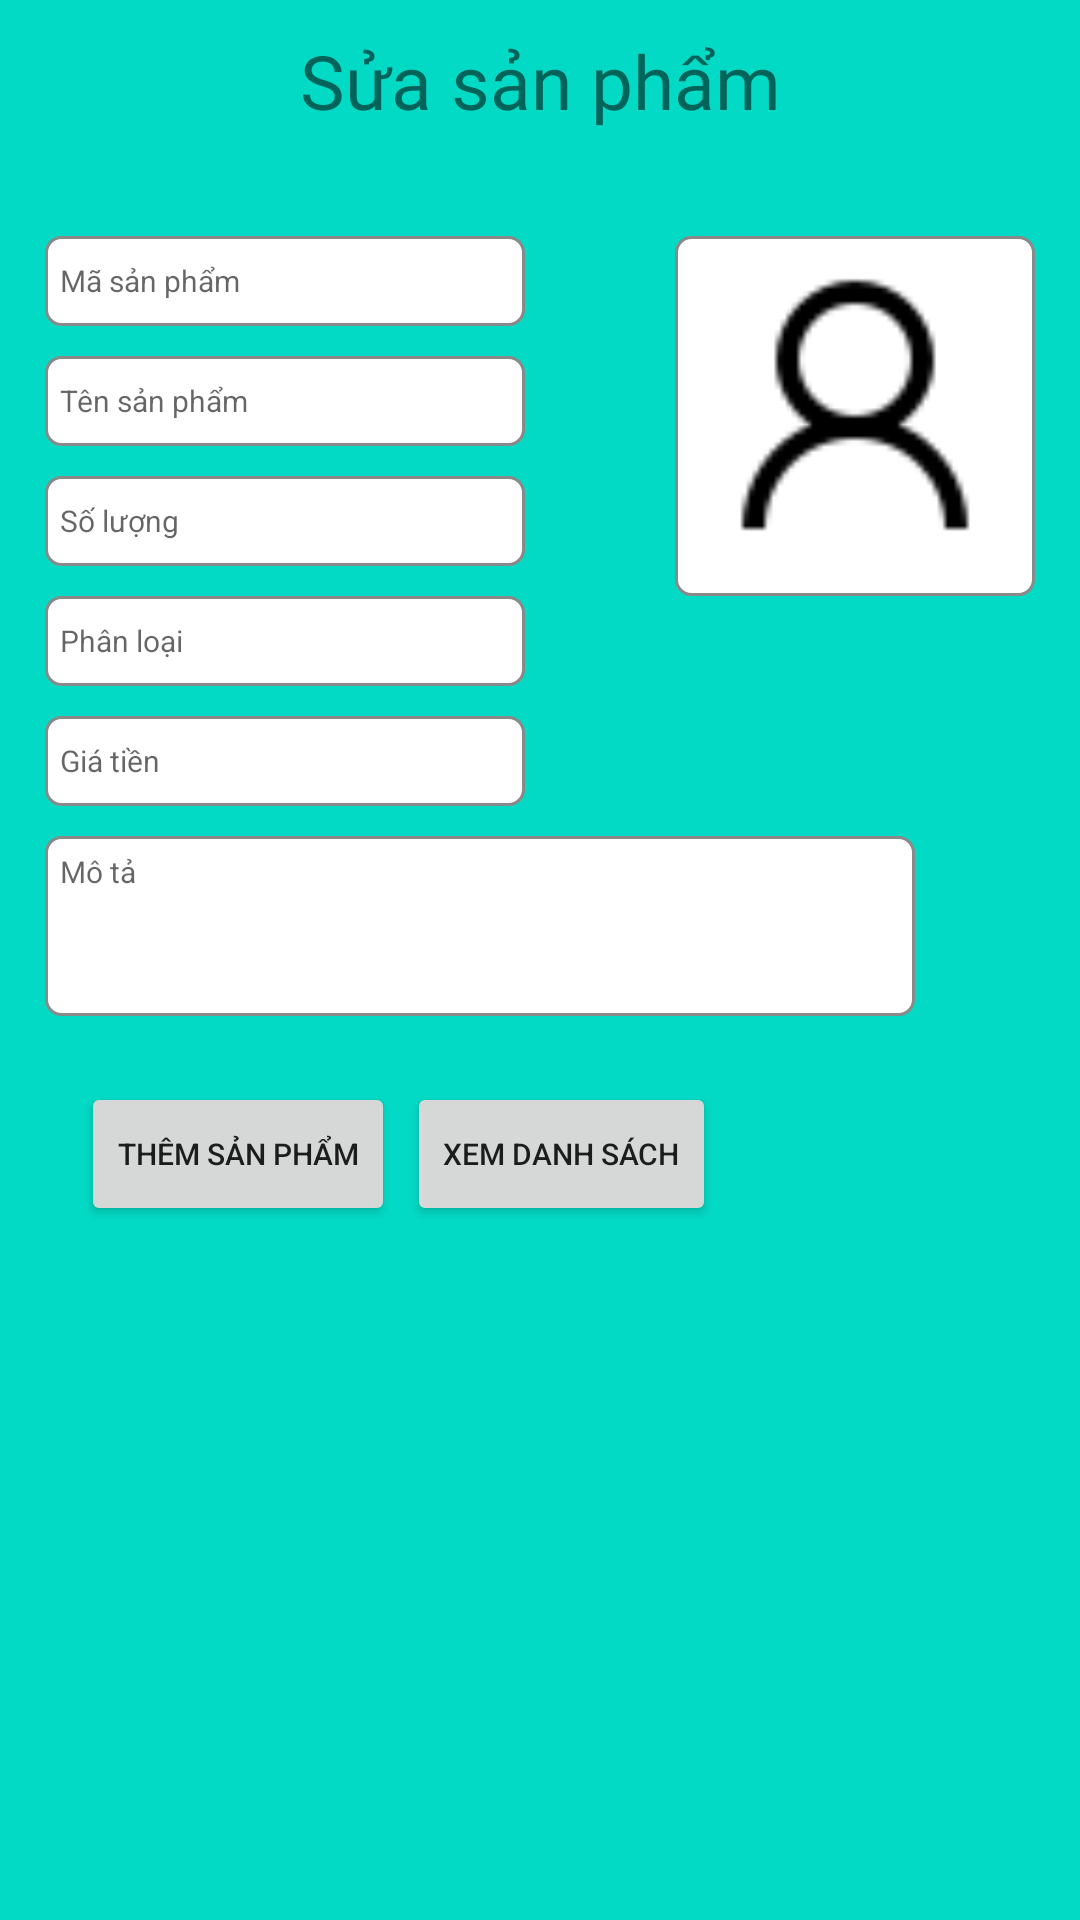

Icons on this 1080px x 1920px Android screen, each with its box as (x1, y1, x2, y2):
account: (675, 236, 1035, 596)
